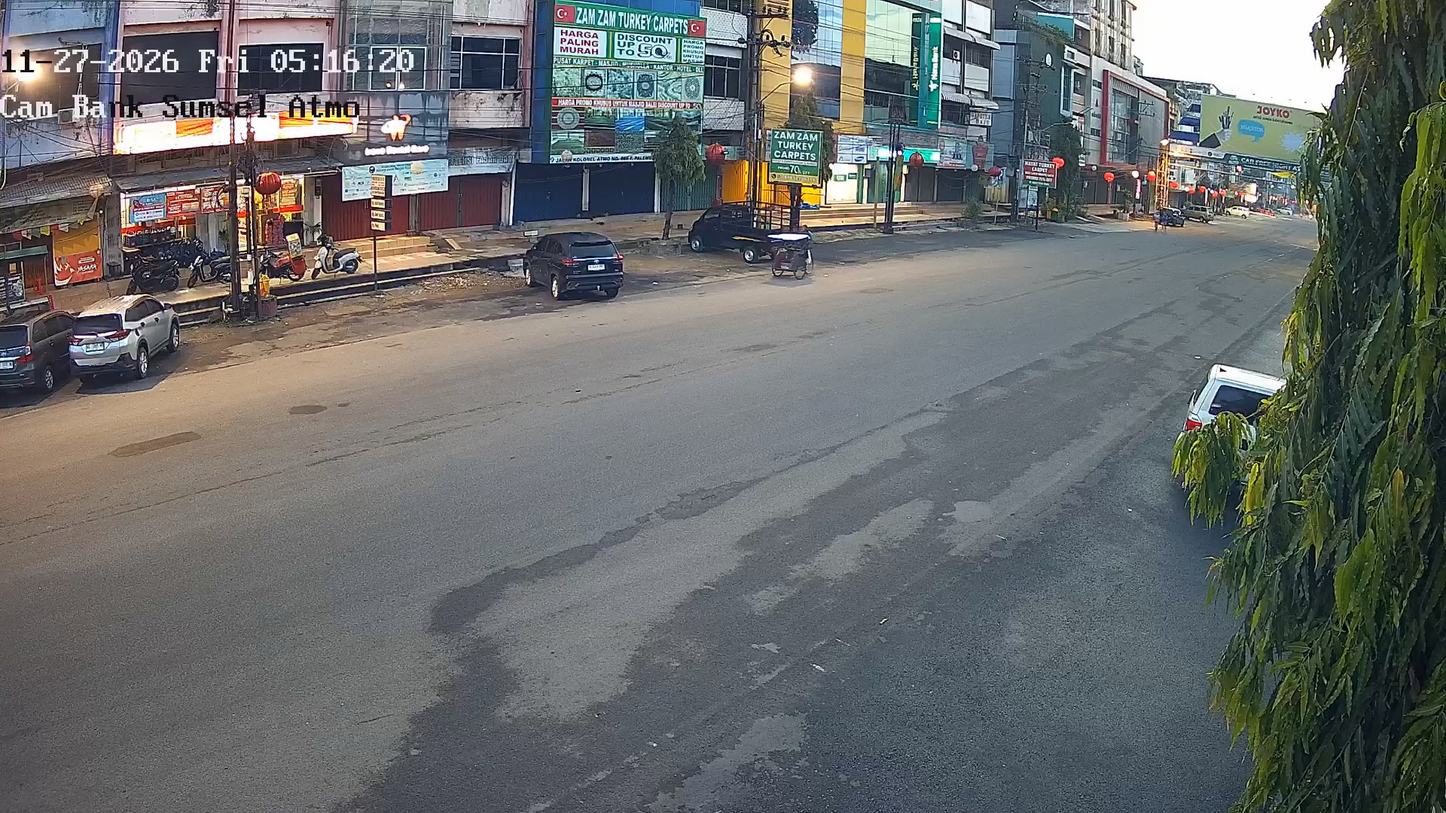Gerobak: (765, 229, 814, 279)
